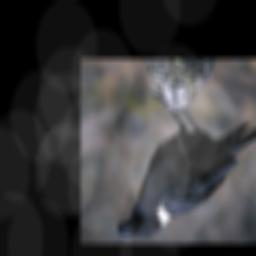Crow: (113, 90, 256, 240)
